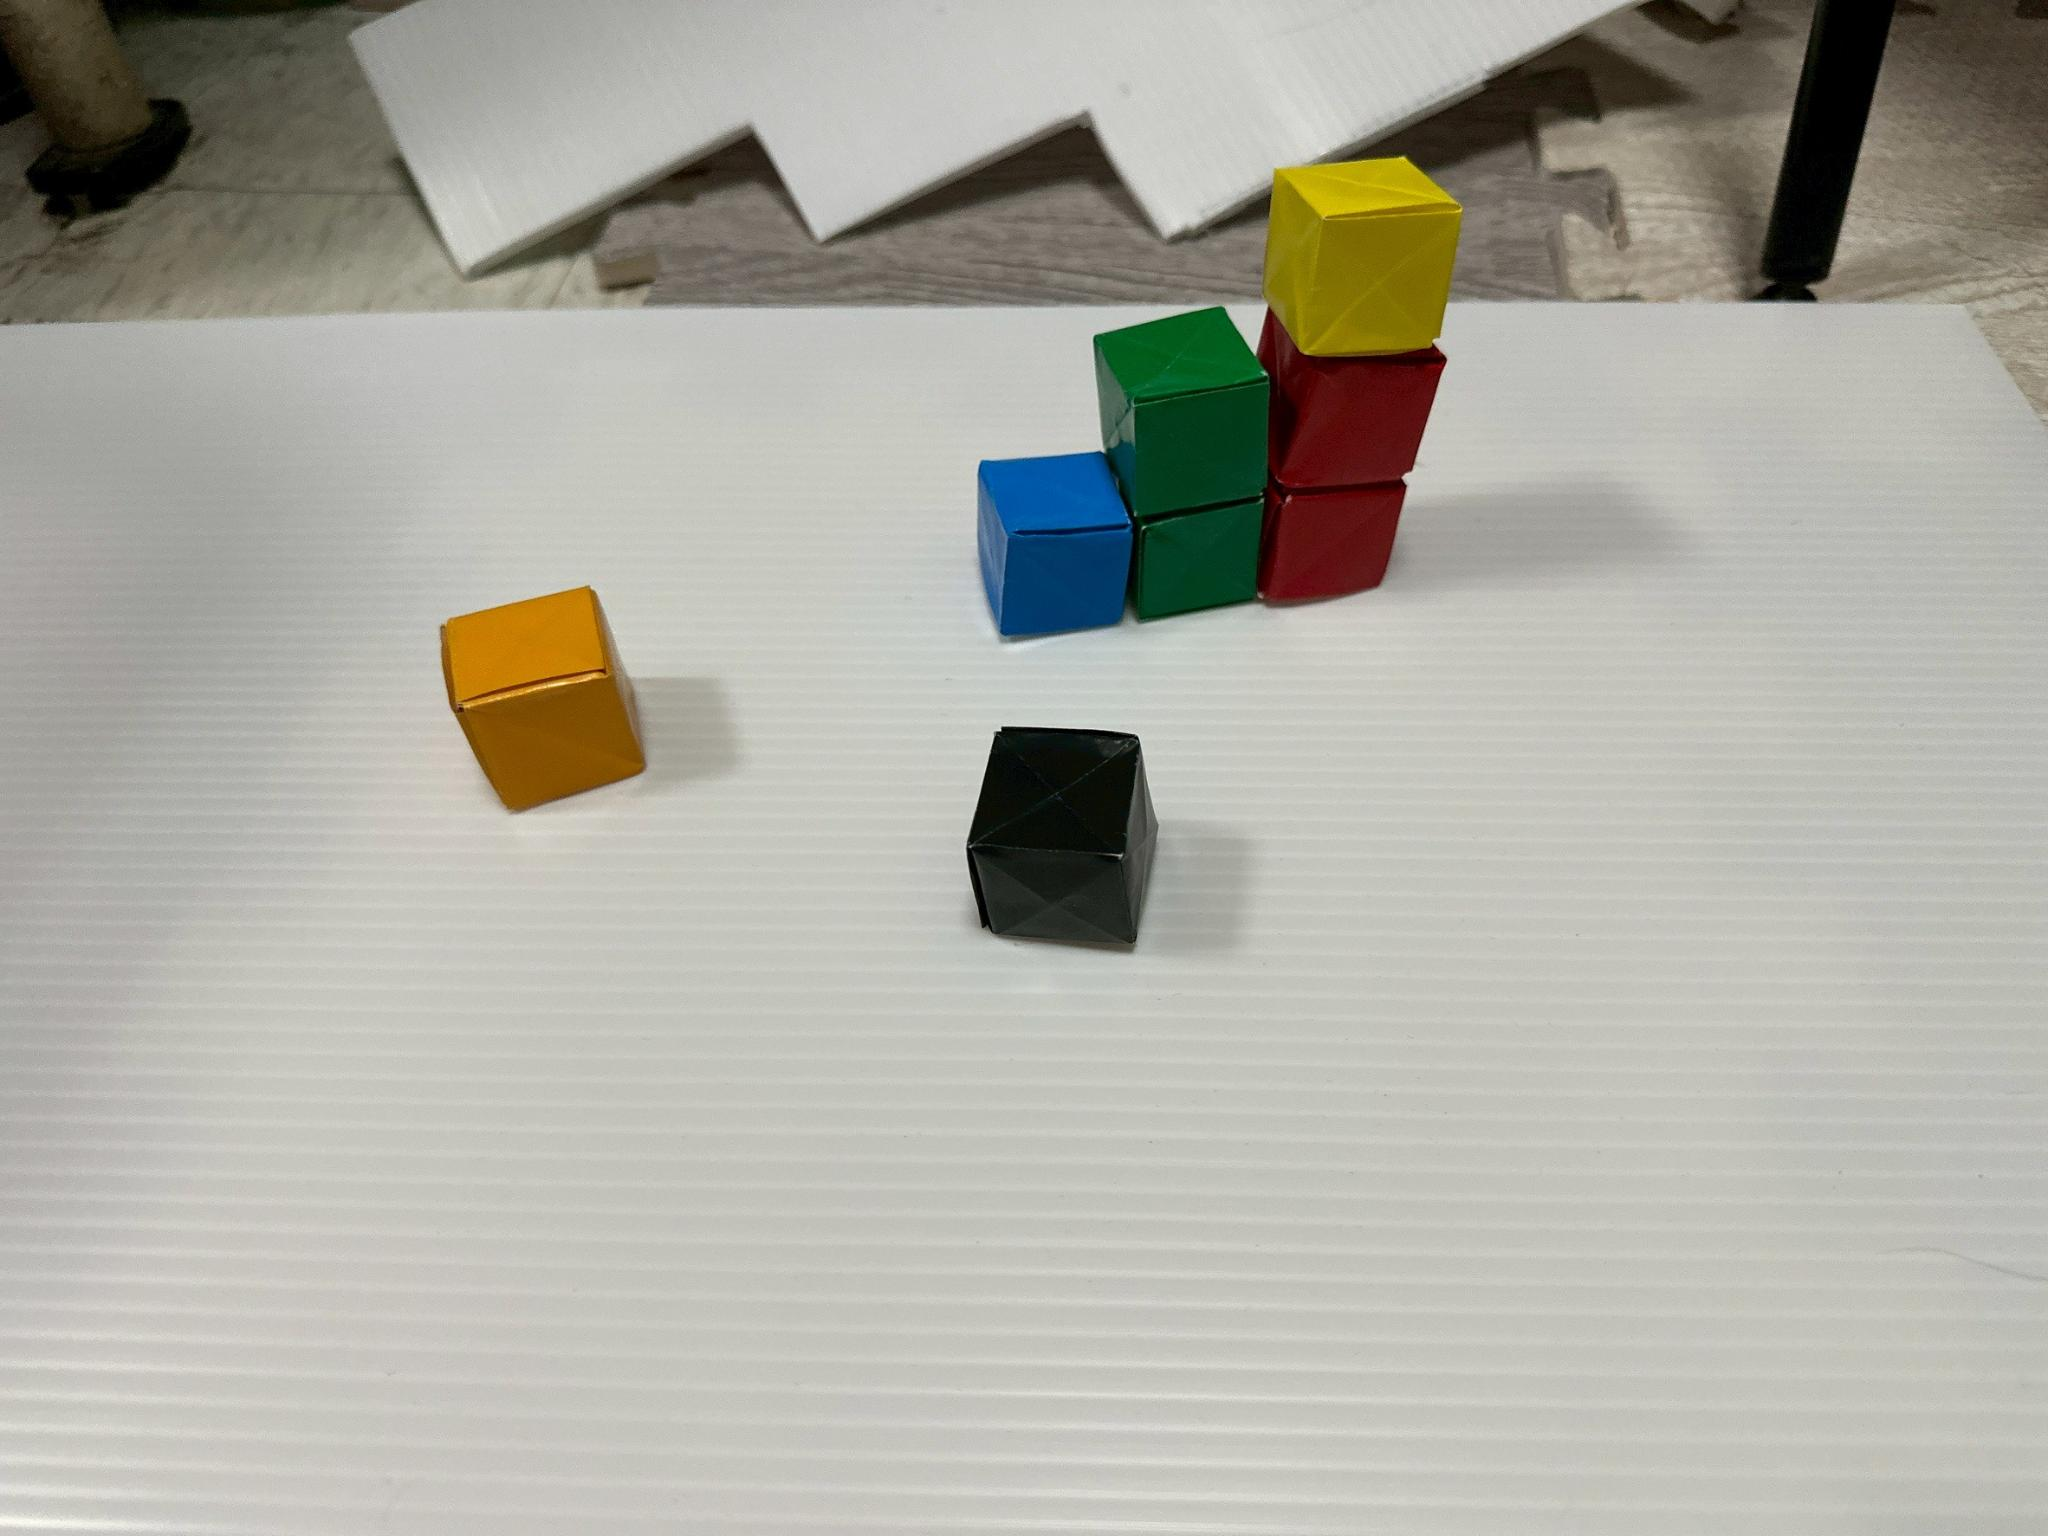cube: (440, 587, 643, 810), (968, 729, 1155, 944), (1264, 158, 1461, 357), (1097, 308, 1269, 515), (1255, 310, 1445, 489), (979, 453, 1132, 637), (1258, 479, 1405, 603), (1132, 497, 1263, 620)
